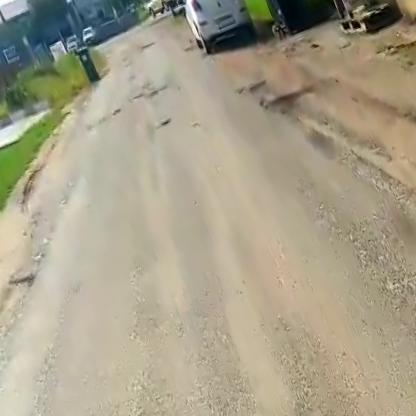pothole: (0, 271, 39, 309)
